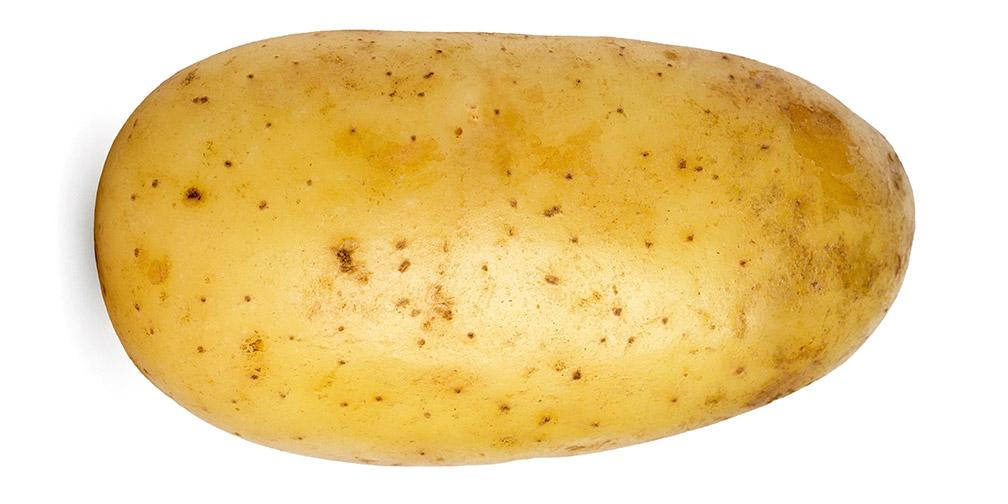potato: (92, 31, 945, 480)
